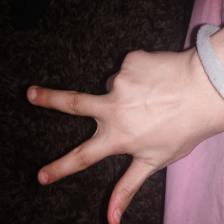three: (25, 46, 189, 218)
